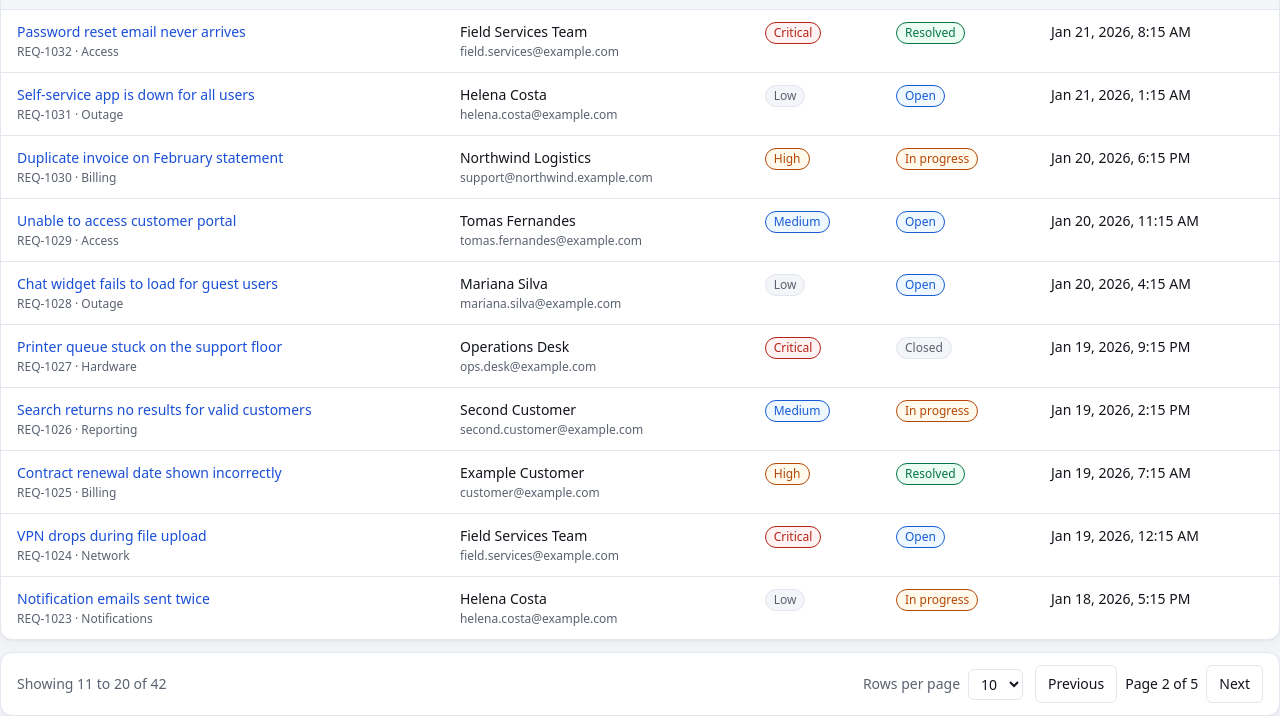
RequestsListPage › walks back to the previous page
(page scrolled)
What coordinates should you click on to do the following:
click the button "Previous"
I would click on:
 (1076, 684)
Its box is [1035,665,1117,703].
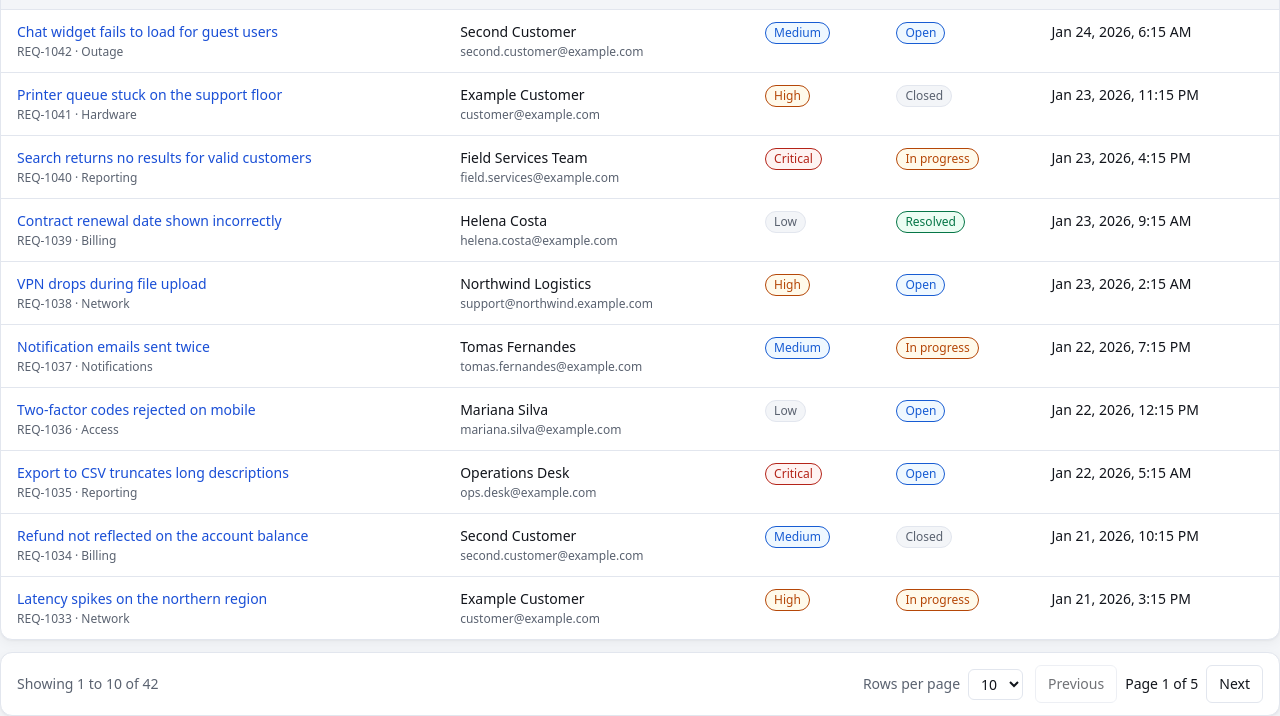
Expected: the text "Showing 1 to 10 of 42" is shown, [17,674,158,694]
